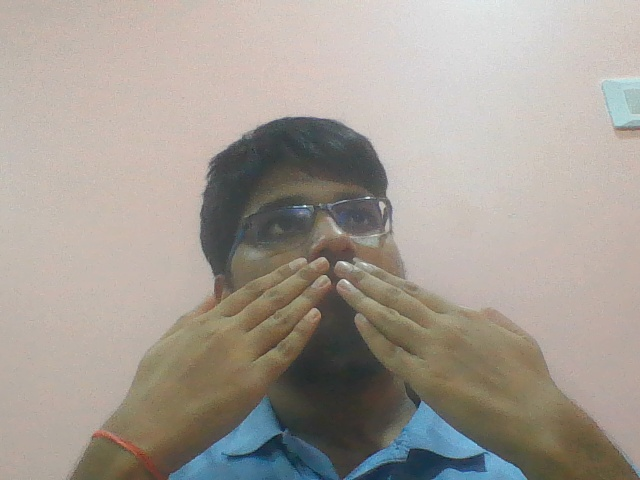thankyou: (78, 254, 598, 452)
